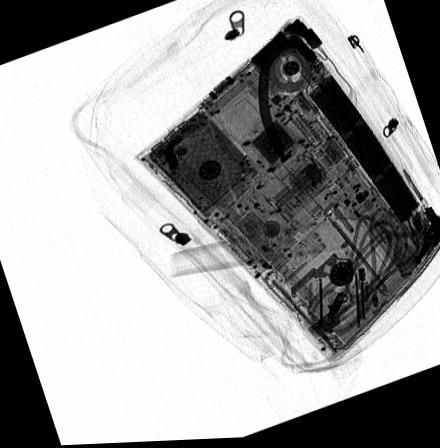Bullet: (328, 295, 346, 324)
